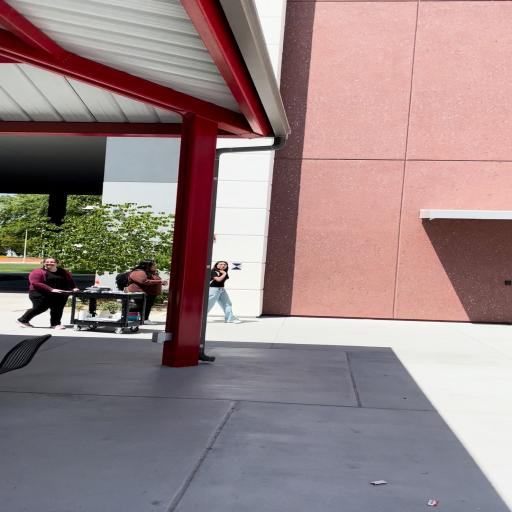target6: (232, 263, 242, 270)
